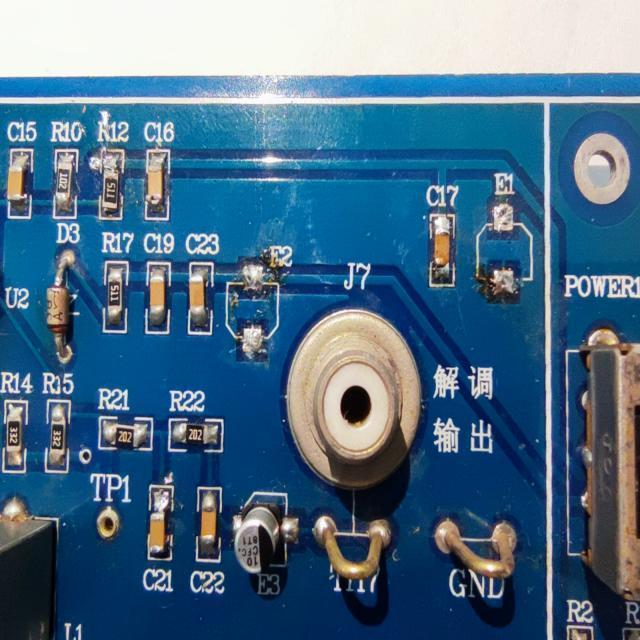Missing component: (468, 162, 541, 312), (225, 225, 291, 372)
